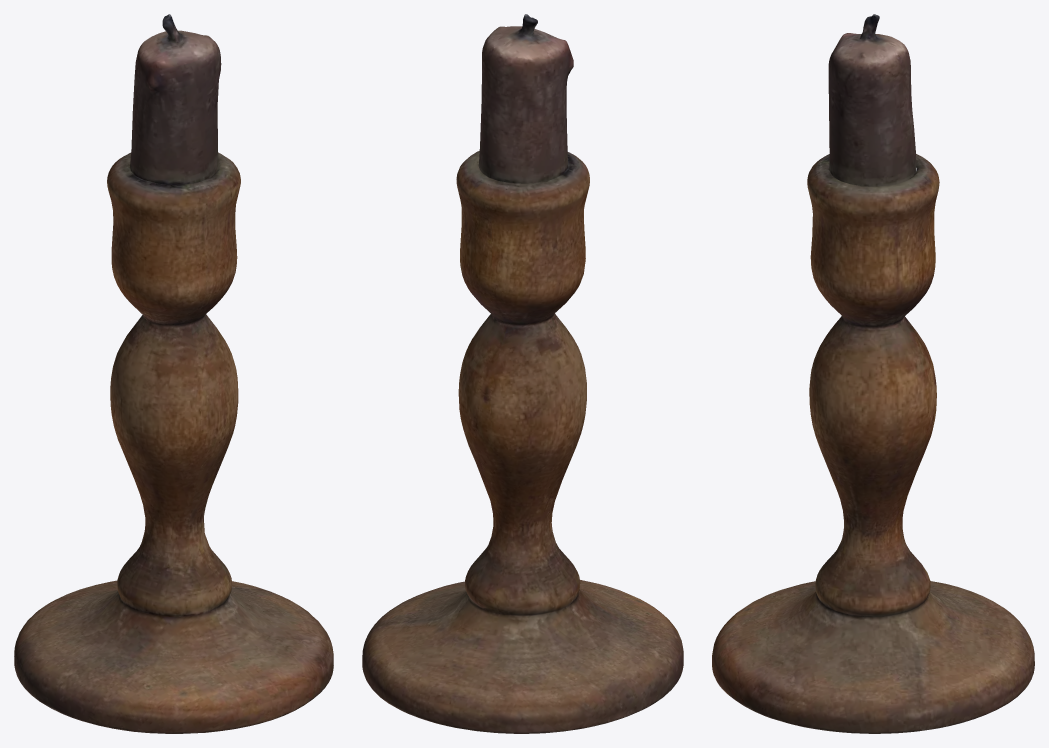
The model's file is wooden_candlestick.bf008c00.glb.
The picture shows the model from 3 angles, left to right: view 1: azimuth 30°, elevation 25°; view 2: azimuth 150°, elevation 25°; view 3: azimuth 270°, elevation 25°; orthographic projection.
Visible parts, largest first — view 1: wooden_candlestick; view 2: wooden_candlestick; view 3: wooden_candlestick.
Part boxes in pixels (x1,y1,x2,y2): wooden_candlestick: (14,14,333,733); wooden_candlestick: (362,14,683,733); wooden_candlestick: (712,14,1034,733).
Bounding box in the file's own units: 0.4424 × 1 × 0.4489.
Materials: 1 (1 with a texture image).
